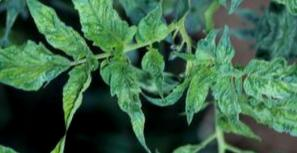Tomato leaf mosaic virus: (88, 54, 178, 153), (7, 0, 110, 72), (0, 28, 82, 109), (39, 0, 147, 60), (240, 40, 297, 110), (176, 62, 222, 133), (134, 0, 174, 46)
